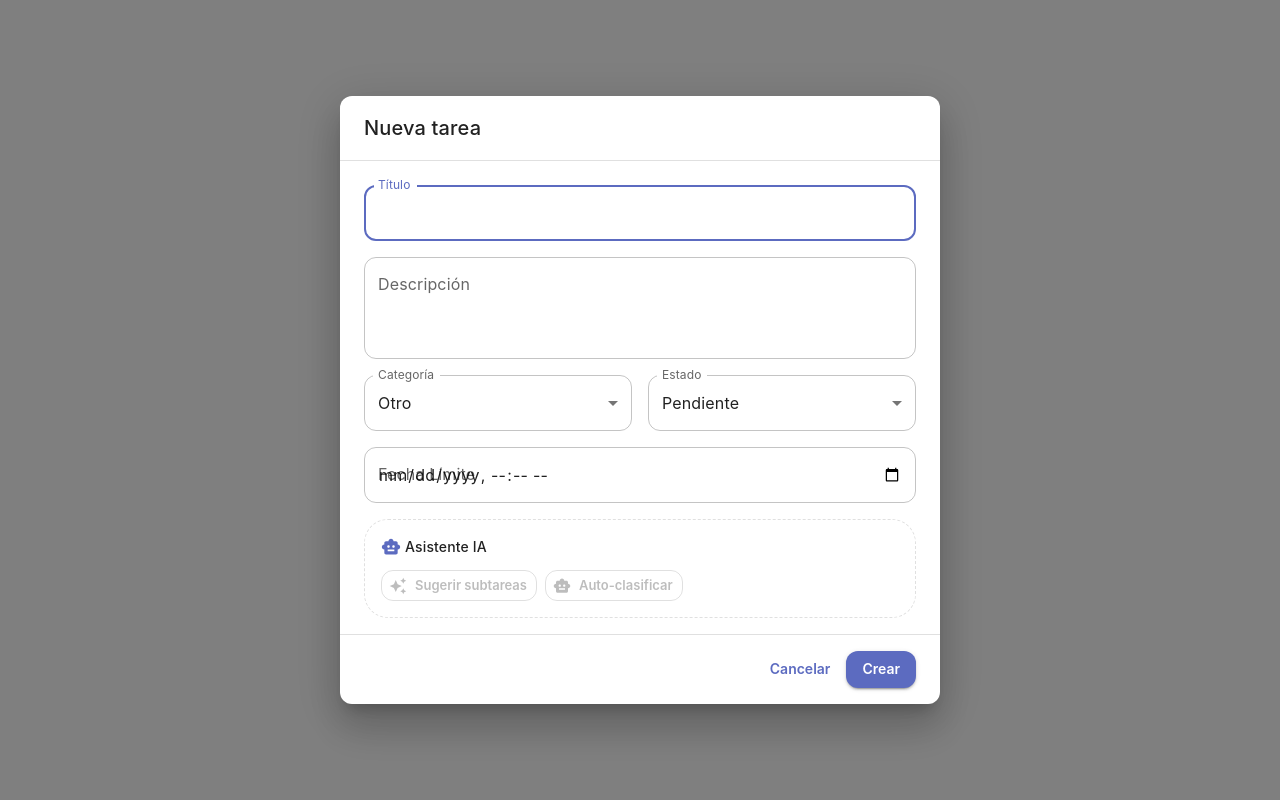
Test: TaskFormDialog › modo crear › debe mostrar error si se envía sin descripción
Type "Test" into the field labelled "Título". click: (640, 213)
box: [364,185,916,241]
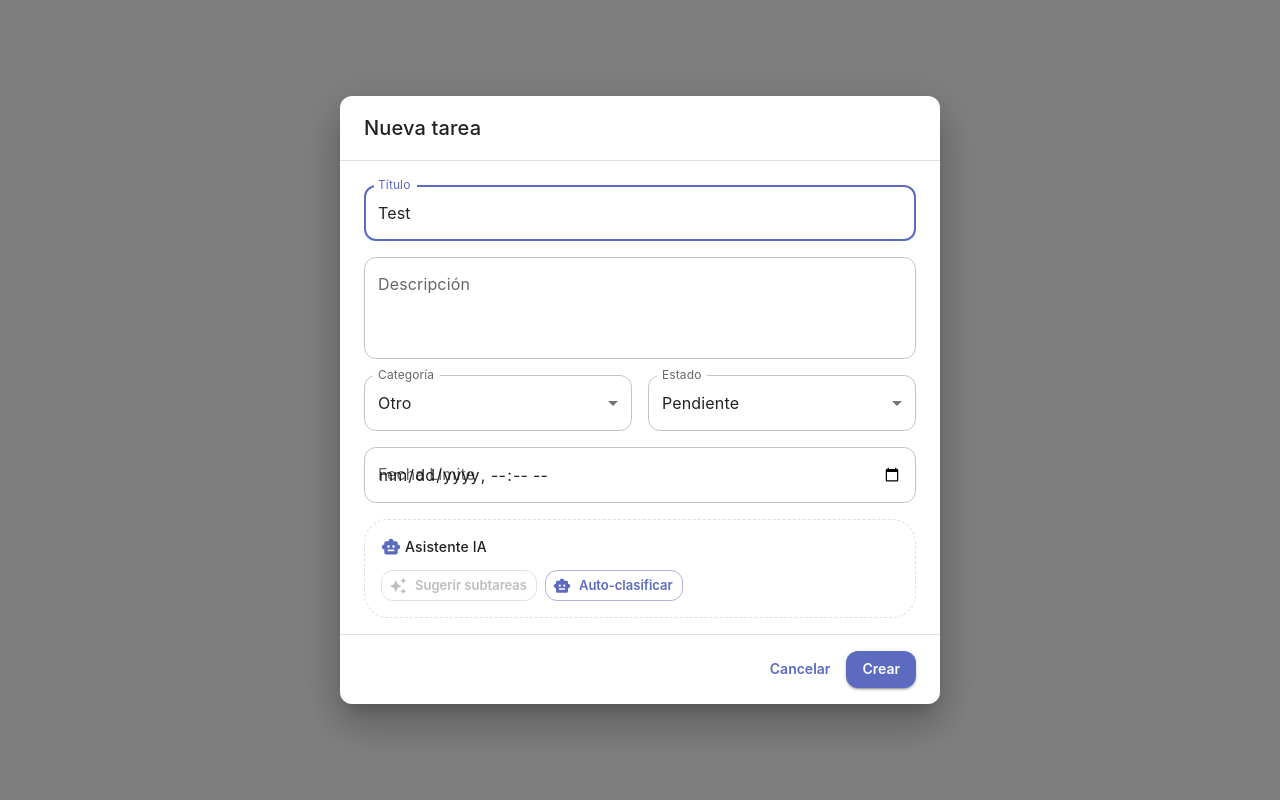
Click the button "Crear". click: (881, 669)
box: [846,651,916,688]
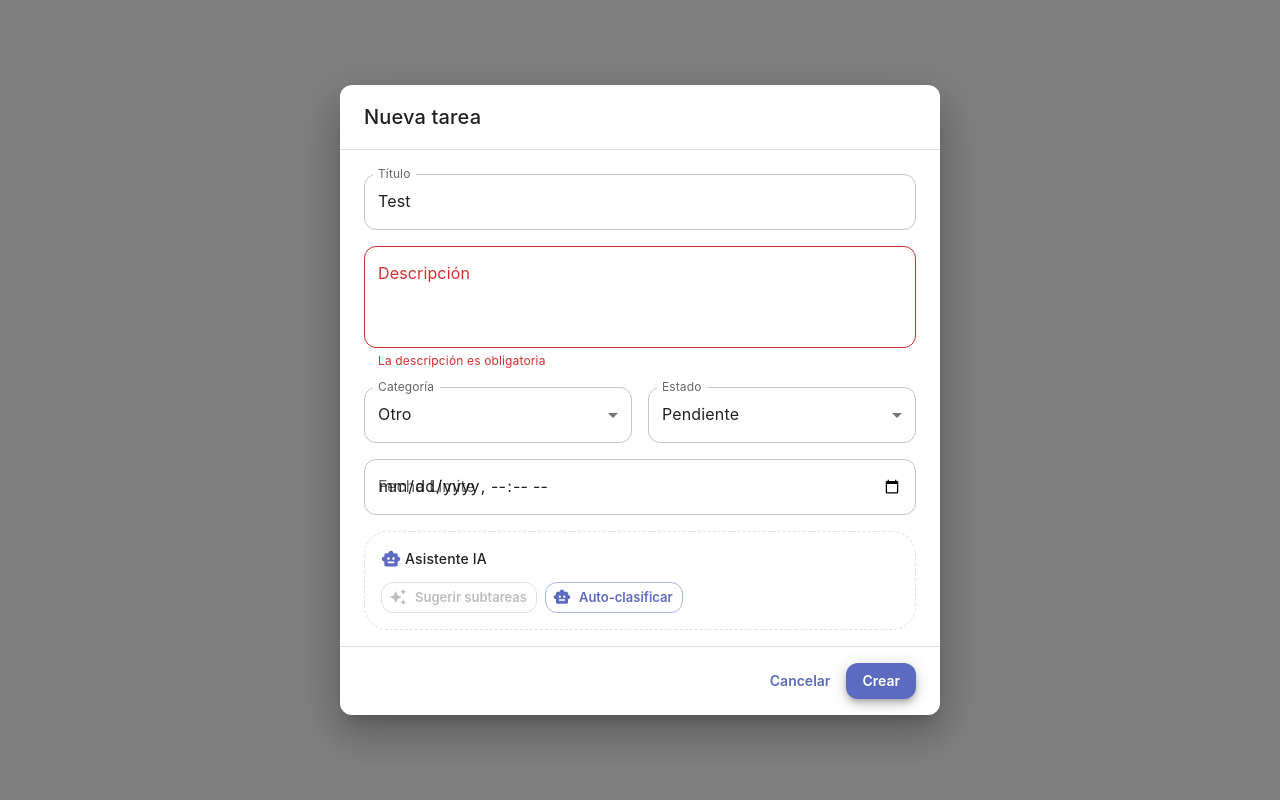
Check: the text "La descripción es obligatoria" is shown, box [378,353,546,368]
